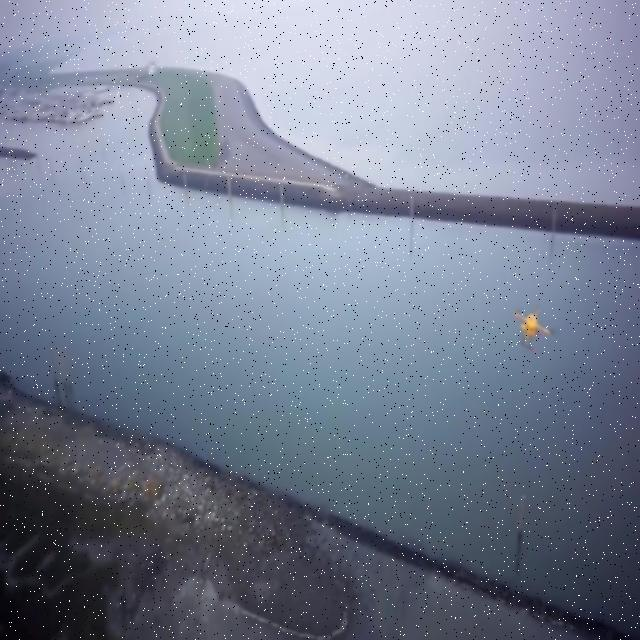UAV: (514, 306, 554, 354)
